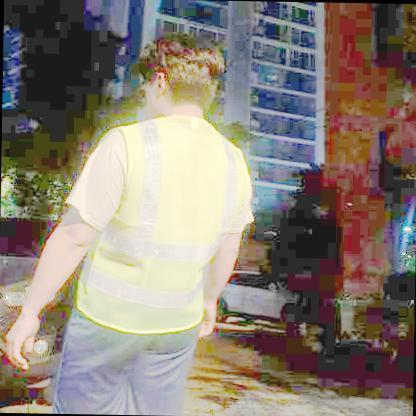no-helmet: (139, 27, 225, 103)
vest: (75, 112, 252, 337)
